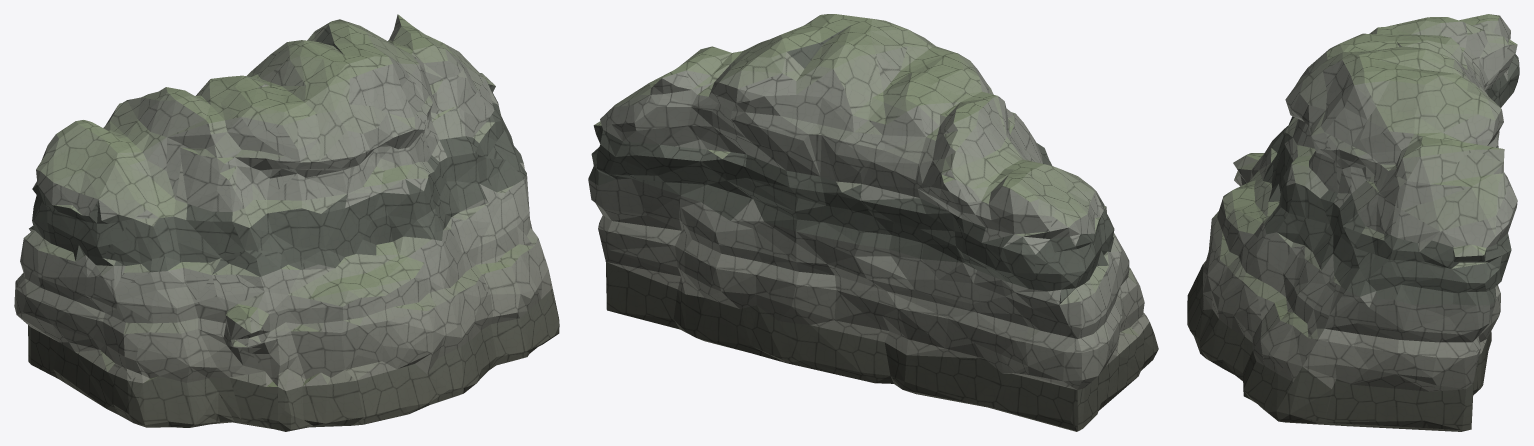
Rendered from cliff_low_a.glb.
3 views of the same model, side by side, from view 1: azimuth 30°, elevation 25°; view 2: azimuth 150°, elevation 25°; view 3: azimuth 270°, elevation 25° (orthographic). The views are drawn at different scales.
Parts seen in each view (by area): view 1: cliff_low_a.001; view 2: cliff_low_a.001; view 3: cliff_low_a.001.
Boxes of the visible parts, box(x1,y1,x2,y2) form: cliff_low_a.001: box(14, 14, 559, 431); cliff_low_a.001: box(588, 14, 1158, 431); cliff_low_a.001: box(1187, 14, 1519, 431).
Size of what is drawn, in the model's own units: 12.82 by 7.37 by 7.72.
Materials: 2 (2 with a texture image).
